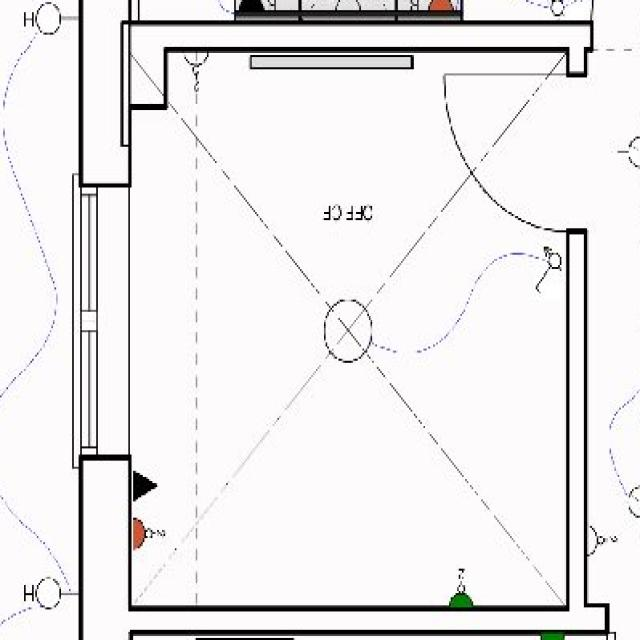Doors: (439, 70, 579, 243)
